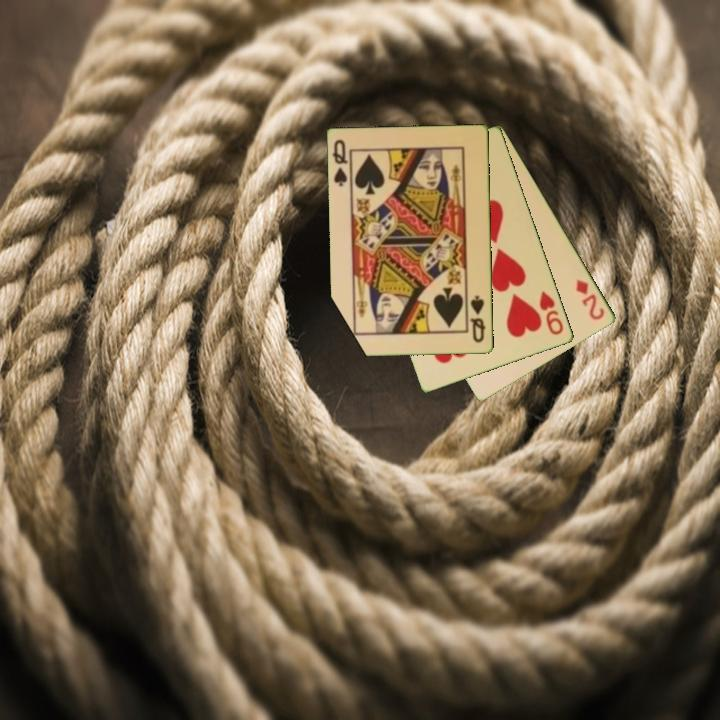2d: (573, 275, 608, 323)
9h: (536, 288, 567, 338)
Qs: (329, 136, 351, 190), (467, 292, 488, 346)
